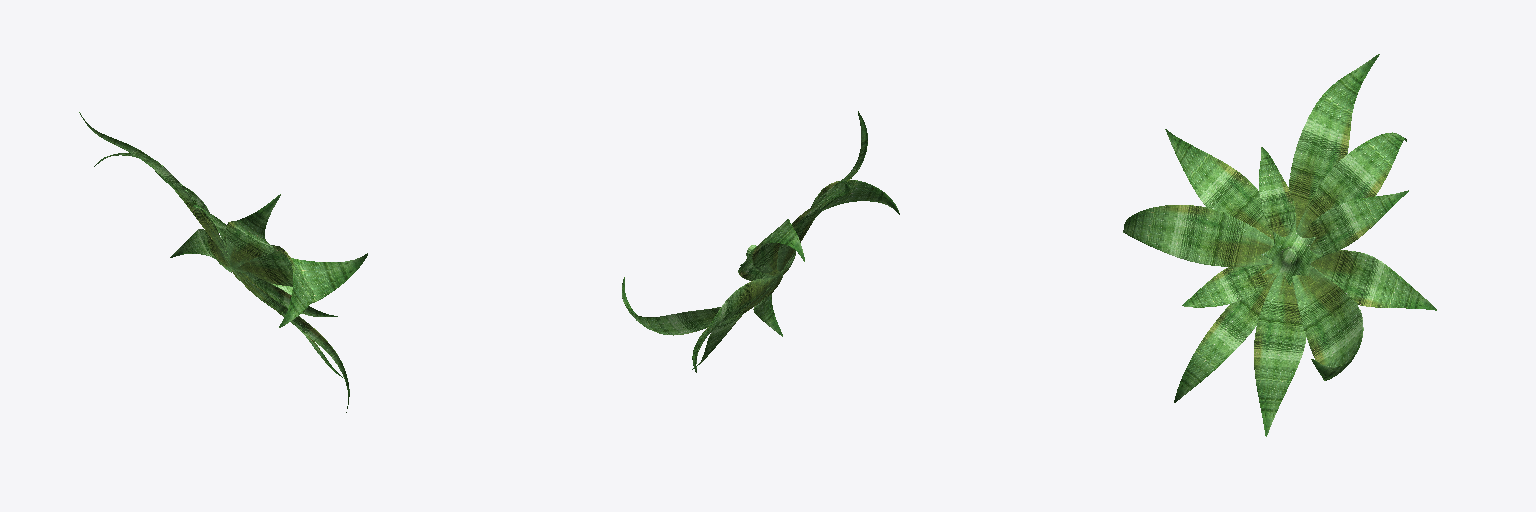
3 views of the same model, side by side, from view 1: azimuth 30°, elevation 25°; view 2: azimuth 150°, elevation 25°; view 3: azimuth 270°, elevation 25° (orthographic).
Parts seen in each view (by area): view 1: strawberry:group1 strawberry:pCube5, strawberry:group1 strawberry:pCube4, strawberry:group1 strawberry:pCube9, strawberry:group1 strawberry:pCube2, strawberry:group1 strawberry:pCube7, strawberry:group1 strawberry:pCube10, strawberry:group1 strawberry:pCube6; view 2: strawberry:group1 strawberry:pCube9, strawberry:group1 strawberry:pCube10, strawberry:group1 strawberry:pCube13, strawberry:group1 strawberry:pCube2, strawberry:group1 strawberry:pCube5, strawberry:group1 strawberry:pCube8, strawberry:group1 strawberry:pCube7, strawberry:group1 strawberry:pCube4; view 3: strawberry:group1 strawberry:pCube5, strawberry:group1 strawberry:pCube2, strawberry:group1 strawberry:pCube8, strawberry:group1 strawberry:pCube9, strawberry:group1 strawberry:pCube13, strawberry:group1 strawberry:pCube4, strawberry:group1 strawberry:pCube10, strawberry:group1 strawberry:pCube7, strawberry:group1 strawberry:pCube12, strawberry:group1 strawberry:pCube6, strawberry:group1 strawberry:pCube3, strawberry:pCube1 strawberry:group1.
Part boxes in pixels (bbox=[...]): strawberry:group1 strawberry:pCube5: bbox=[233, 245, 313, 327]; strawberry:group1 strawberry:pCube4: bbox=[226, 194, 280, 267]; strawberry:group1 strawberry:pCube9: bbox=[232, 253, 367, 303]; strawberry:group1 strawberry:pCube2: bbox=[79, 112, 228, 259]; strawberry:group1 strawberry:pCube7: bbox=[237, 271, 349, 412]; strawberry:group1 strawberry:pCube10: bbox=[170, 229, 231, 272]; strawberry:group1 strawberry:pCube6: bbox=[242, 272, 337, 316]; strawberry:group1 strawberry:pCube9: bbox=[622, 277, 775, 335]; strawberry:group1 strawberry:pCube10: bbox=[692, 278, 774, 372]; strawberry:group1 strawberry:pCube13: bbox=[752, 219, 804, 272]; strawberry:group1 strawberry:pCube2: bbox=[777, 181, 851, 271]; strawberry:group1 strawberry:pCube5: bbox=[781, 180, 899, 274]; strawberry:group1 strawberry:pCube8: bbox=[692, 278, 776, 369]; strawberry:group1 strawberry:pCube7: bbox=[753, 273, 782, 336]; strawberry:group1 strawberry:pCube4: bbox=[782, 111, 867, 273]; strawberry:group1 strawberry:pCube5: bbox=[1123, 205, 1273, 266]; strawberry:group1 strawberry:pCube2: bbox=[1288, 54, 1379, 229]; strawberry:group1 strawberry:pCube8: bbox=[1254, 272, 1306, 436]; strawberry:group1 strawberry:pCube9: bbox=[1292, 265, 1363, 380]; strawberry:group1 strawberry:pCube13: bbox=[1296, 132, 1406, 235]; strawberry:group1 strawberry:pCube4: bbox=[1165, 129, 1273, 239]; strawberry:group1 strawberry:pCube10: bbox=[1310, 250, 1436, 310]; strawberry:group1 strawberry:pCube7: bbox=[1174, 268, 1276, 402]; strawberry:group1 strawberry:pCube12: bbox=[1300, 190, 1408, 255]; strawberry:group1 strawberry:pCube6: bbox=[1182, 264, 1277, 307]; strawberry:group1 strawberry:pCube3: bbox=[1259, 147, 1295, 236]; strawberry:pCube1 strawberry:group1: bbox=[1261, 223, 1323, 285].
Size of the model in its own units: 7.67 by 8.01 by 8.16.
Materials: 1 (1 with a texture image).